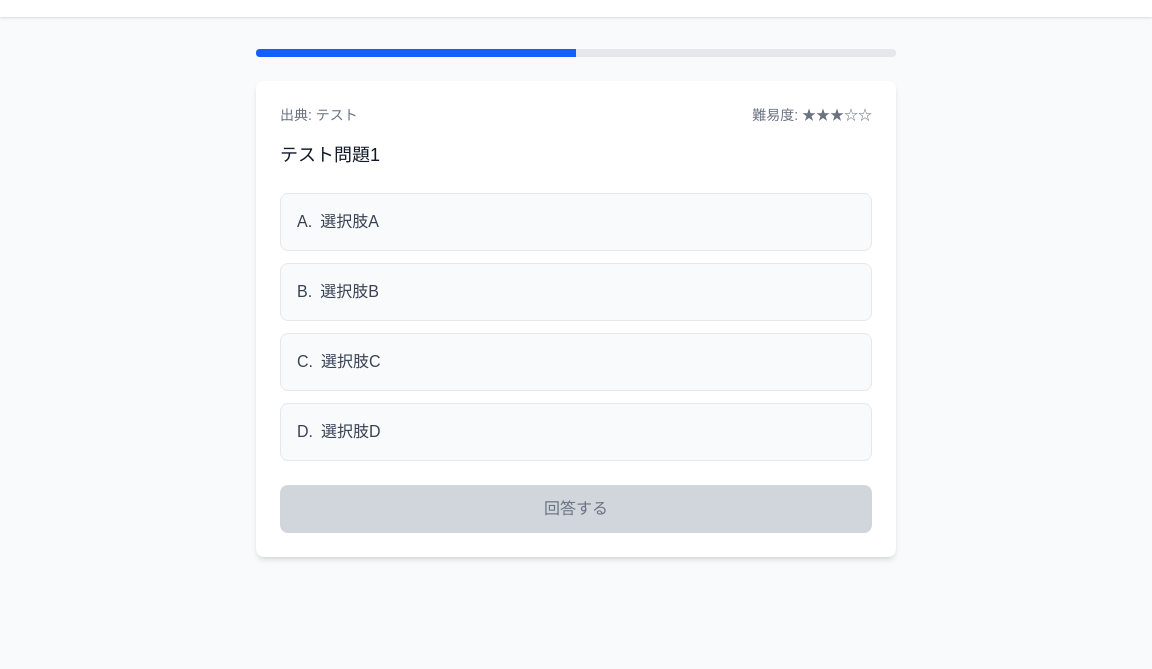
Test: ReviewPage › 回答処理 › 次の問題でQuestionCardの内部状態がリセットされる
The width and height of the screenshot is (1152, 669).
expect the heading "テスト問題1" is shown: met, box [280,145,380,165]
Step 1. Click the text "A." → (305, 222), box [297,213,312,230]
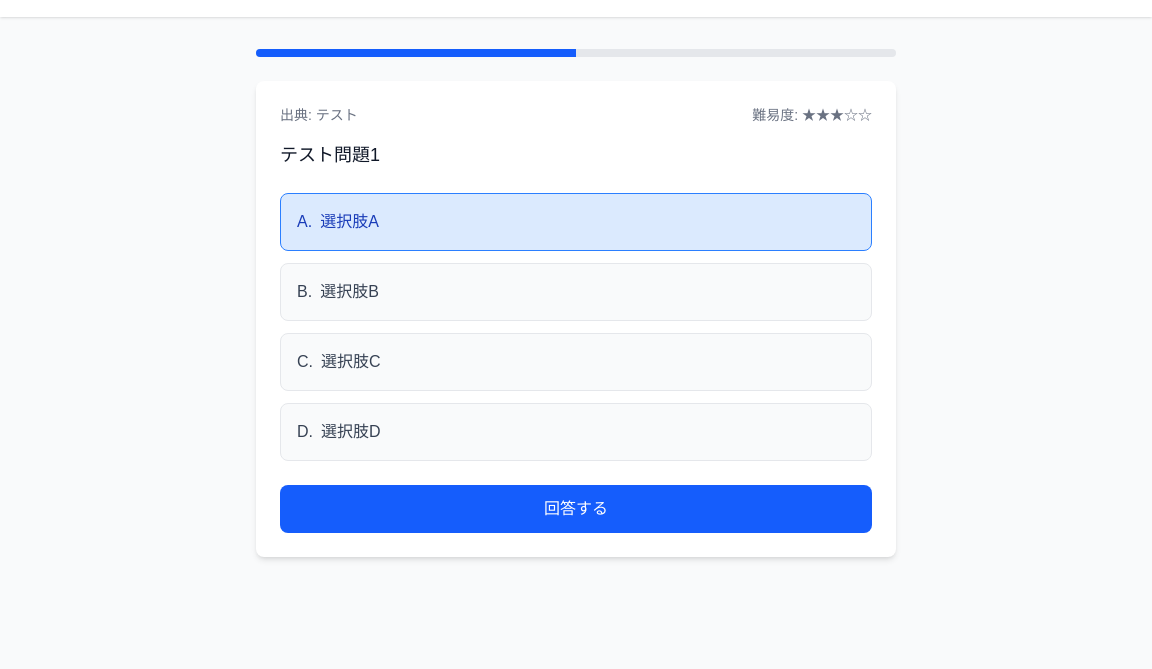
Step 2. Click the button "回答する" → (576, 509), box [280,485,872,533]
(page scrolled)
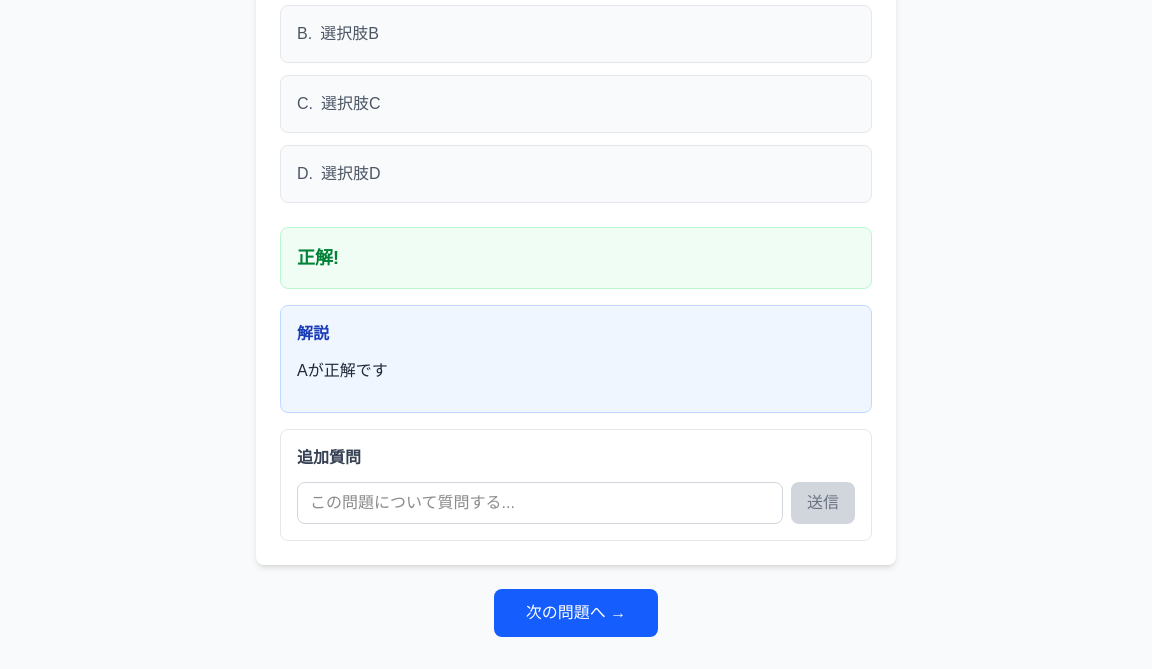
expect the text "正解!" is shown: met, box [297,248,339,268]
Step 3. Click the button "次の問題へ →" → (576, 613), box [494,589,658,637]
(page scrolled)
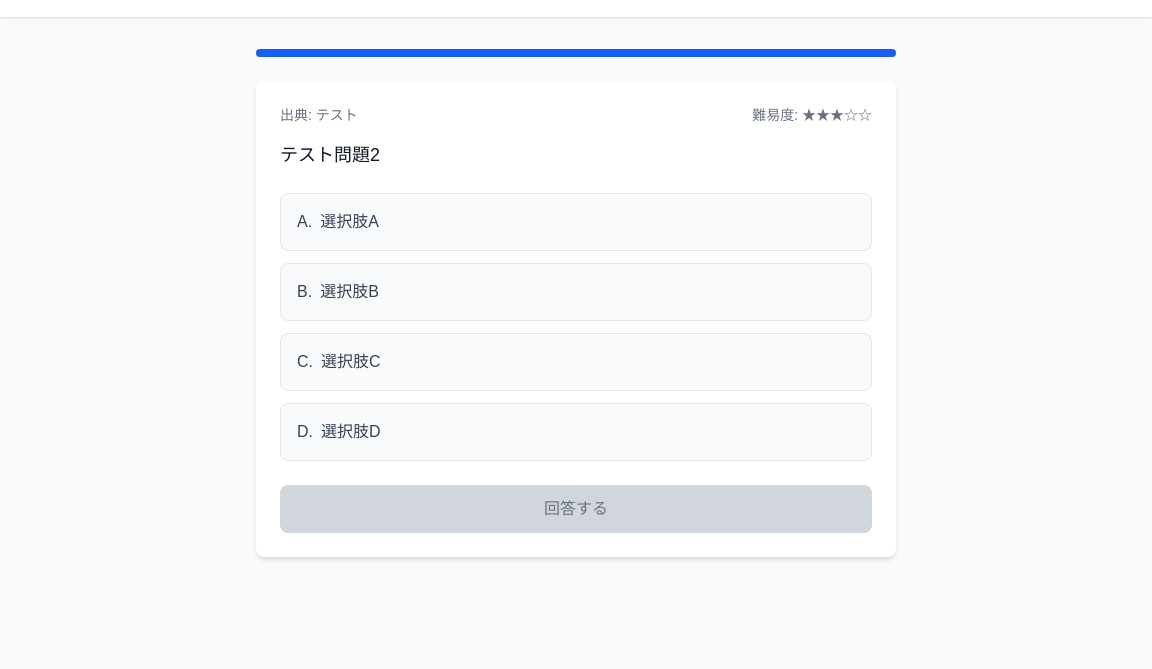
expect the heading "テスト問題2" is shown: met, box [280,145,380,165]
expect the text "正解!" is gone: met
expect the button "回答する" is disabled: met, box [280,485,872,533]
